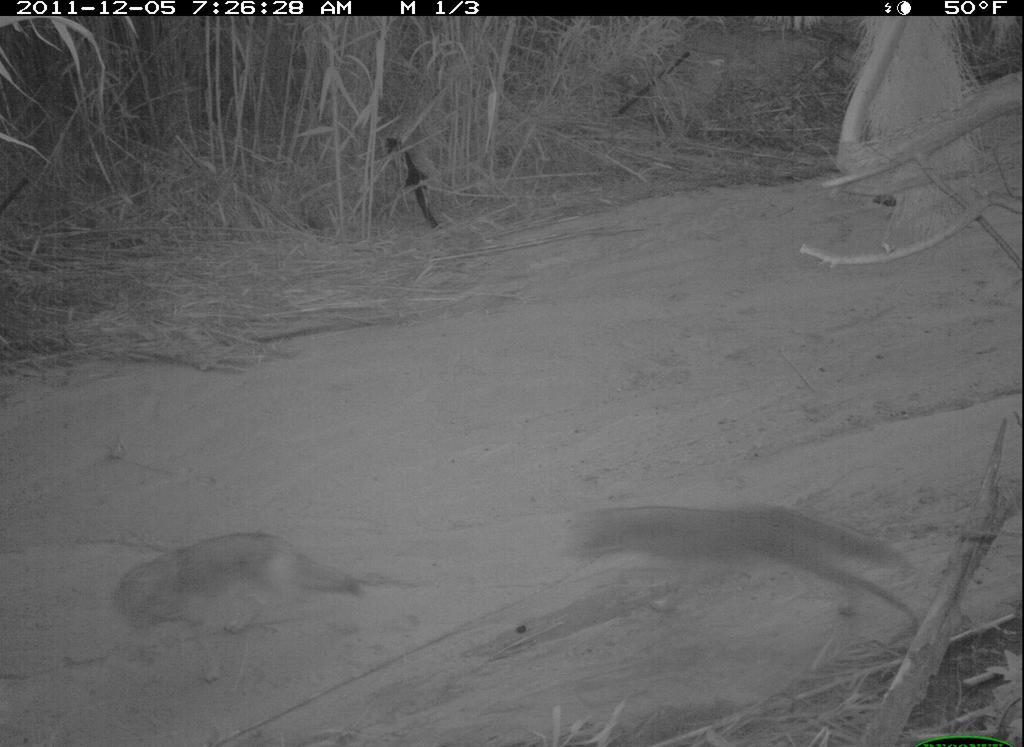coyote: (534, 477, 931, 646), (85, 520, 377, 683)
